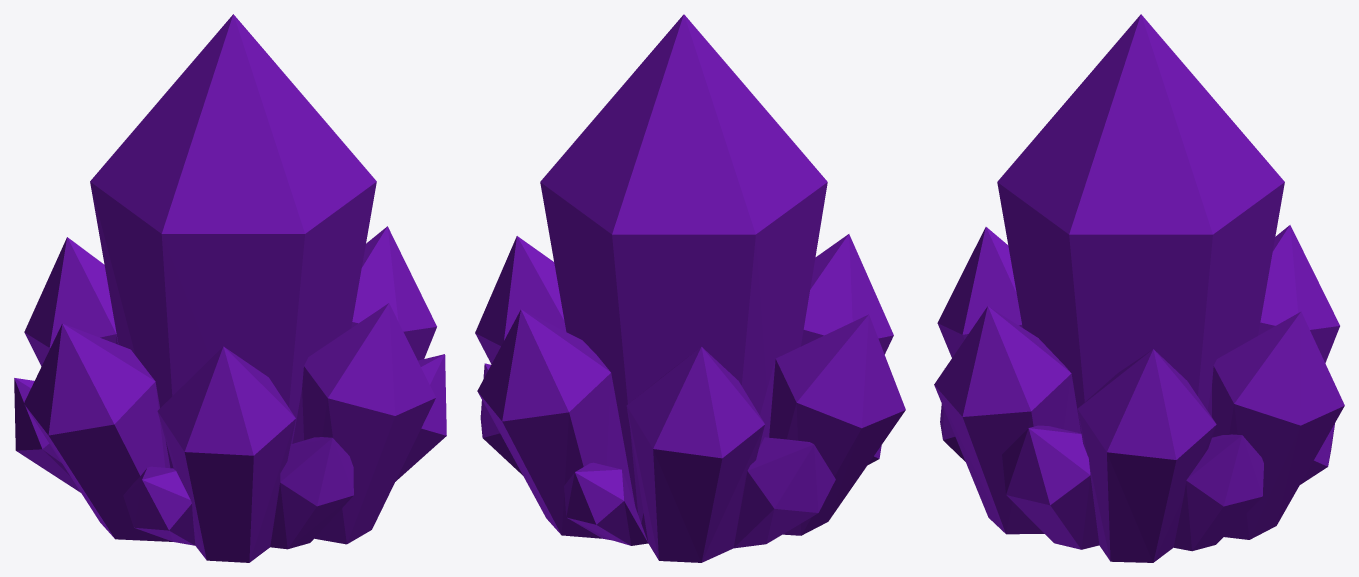
The model's file is crystal_purple.obj.
3 renders of one model, left to right at view 1: azimuth 30°, elevation 25°; view 2: azimuth 150°, elevation 25°; view 3: azimuth 270°, elevation 25°, orthographic.
Visible parts, largest first — view 1: Crystal_Cube; view 2: Crystal_Cube; view 3: Crystal_Cube.
Boxes of the visible parts, x1,y1,x2,y2 form: Crystal_Cube: [14, 14, 446, 562]; Crystal_Cube: [475, 14, 905, 562]; Crystal_Cube: [934, 14, 1344, 562].
Size of the model in its own units: 0.8345 by 0.9795 by 0.7515.
